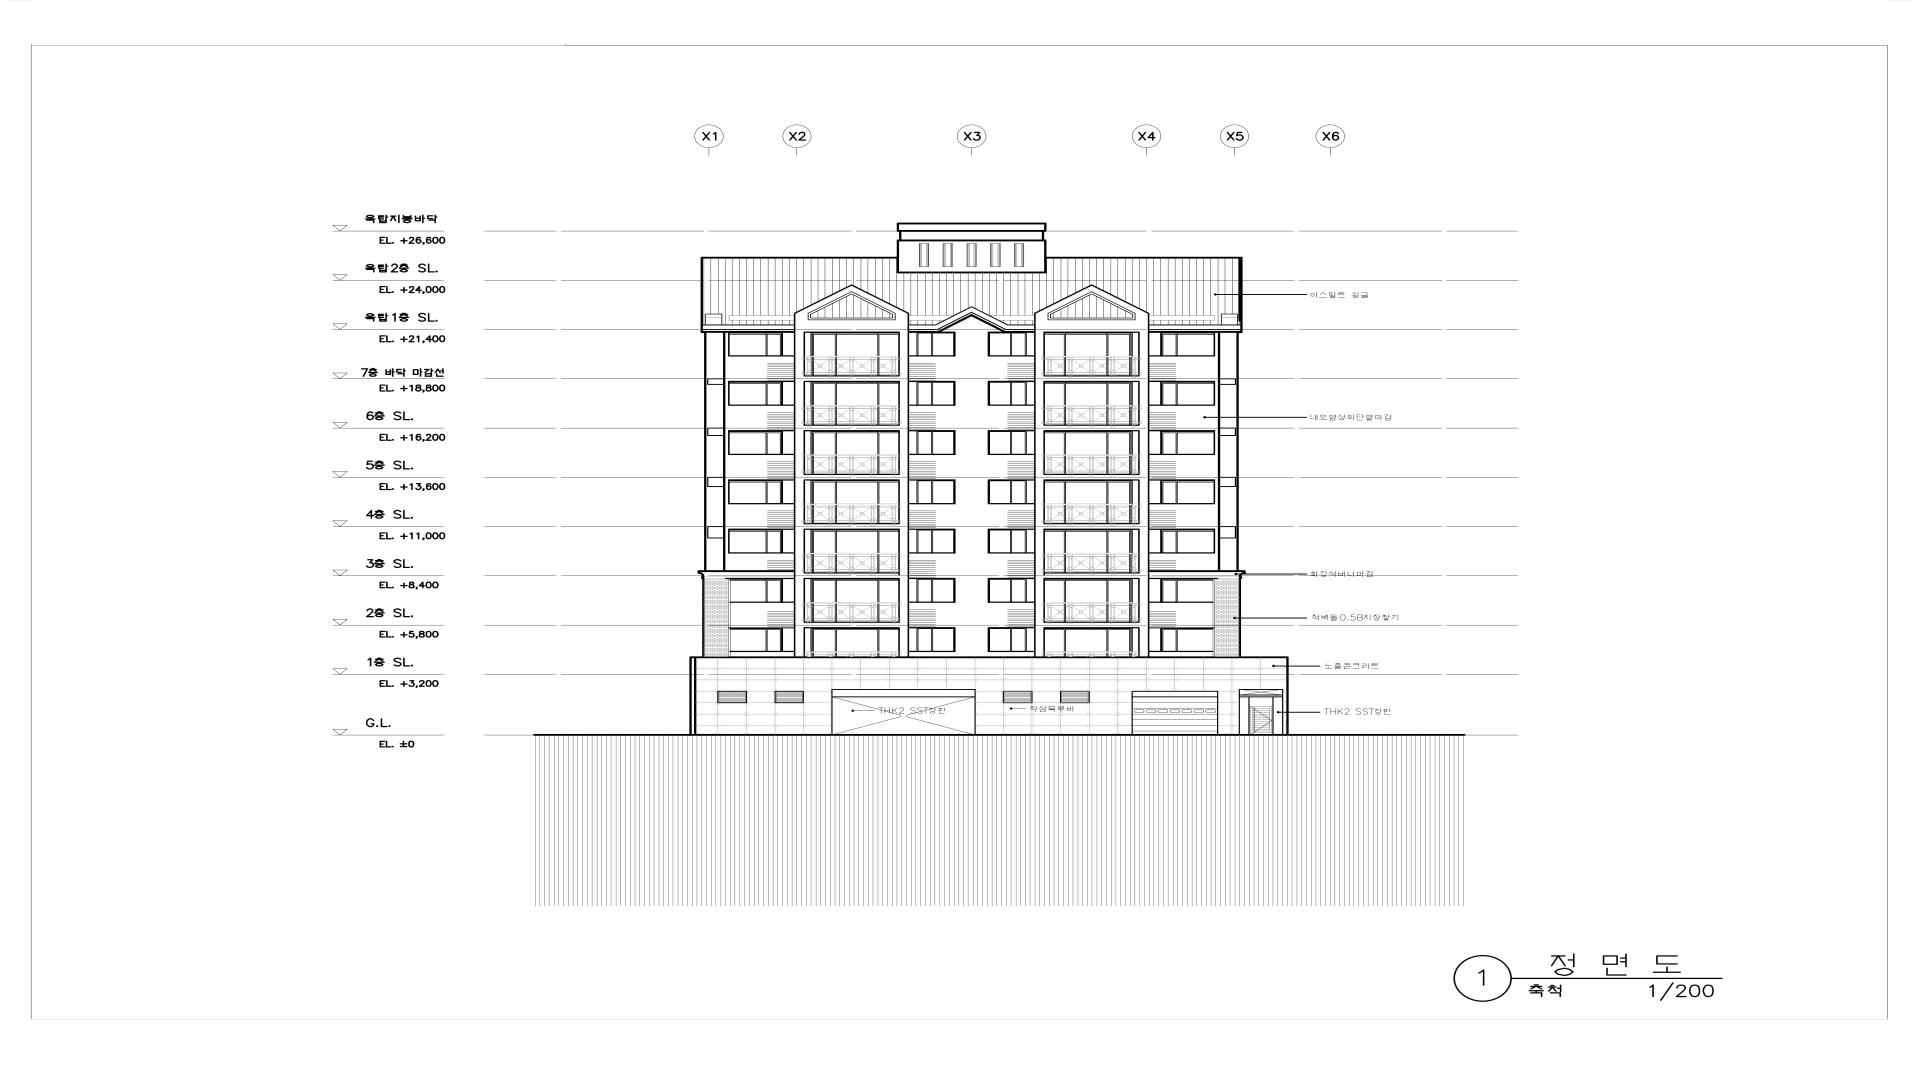door: (831, 696, 976, 734), (1248, 697, 1274, 734)
wall: (689, 222, 1289, 736)
window: (803, 332, 900, 377), (803, 381, 900, 426), (803, 479, 900, 524), (803, 529, 900, 574), (803, 578, 900, 623), (1043, 331, 1140, 376), (1043, 381, 1140, 426), (1043, 430, 1140, 475), (804, 430, 900, 475), (1043, 479, 1139, 524), (1043, 578, 1139, 623), (1043, 529, 1140, 573), (1131, 696, 1218, 734), (803, 627, 900, 657), (1043, 627, 1140, 657), (728, 381, 794, 406), (728, 430, 794, 455), (728, 479, 794, 504), (728, 529, 794, 554), (728, 578, 794, 603), (728, 627, 794, 652), (1149, 529, 1215, 554), (1149, 479, 1215, 504), (1149, 430, 1215, 455), (1149, 381, 1215, 406), (1149, 627, 1213, 652), (1149, 578, 1213, 603), (1149, 332, 1215, 356), (728, 333, 794, 356), (909, 627, 956, 652), (909, 479, 956, 504), (909, 430, 956, 455), (909, 381, 956, 406), (987, 381, 1034, 406), (987, 578, 1034, 603), (909, 578, 955, 603), (909, 529, 955, 554), (909, 331, 955, 356), (988, 430, 1034, 455), (988, 479, 1034, 504), (988, 529, 1034, 554), (988, 627, 1034, 652), (988, 332, 1034, 356), (717, 691, 747, 703), (774, 691, 804, 703), (1060, 691, 1090, 703), (1003, 691, 1033, 703), (1239, 689, 1283, 695), (919, 243, 929, 267), (943, 243, 953, 267), (990, 243, 1000, 267), (1014, 243, 1024, 267), (967, 243, 976, 267)
